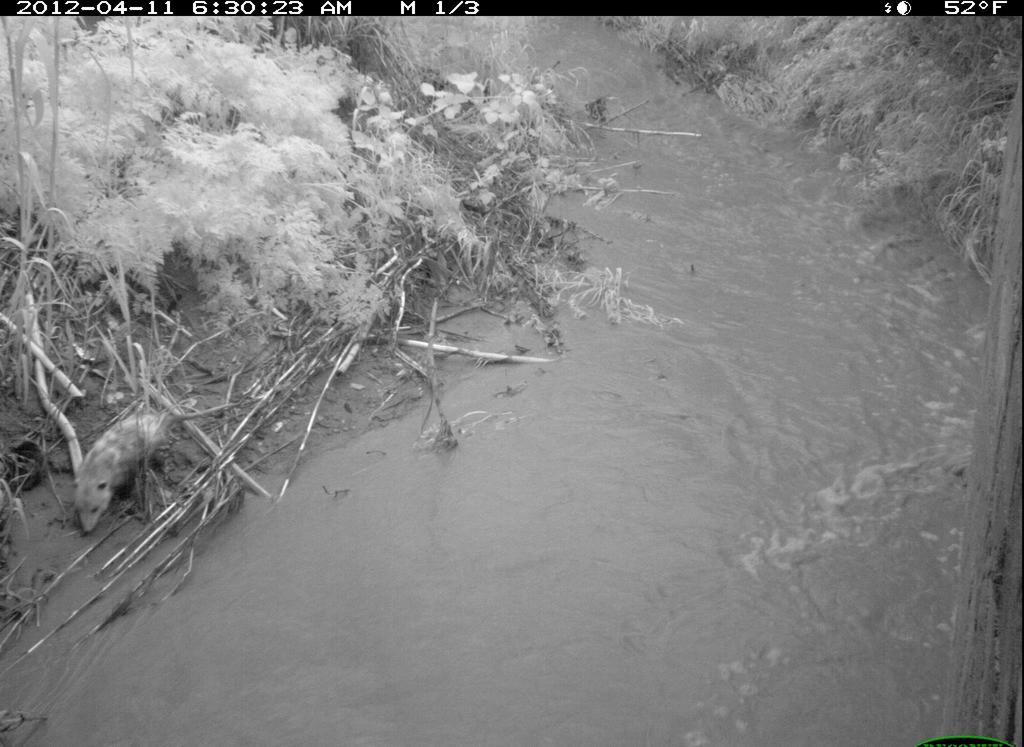opossum: (61, 393, 244, 536)
